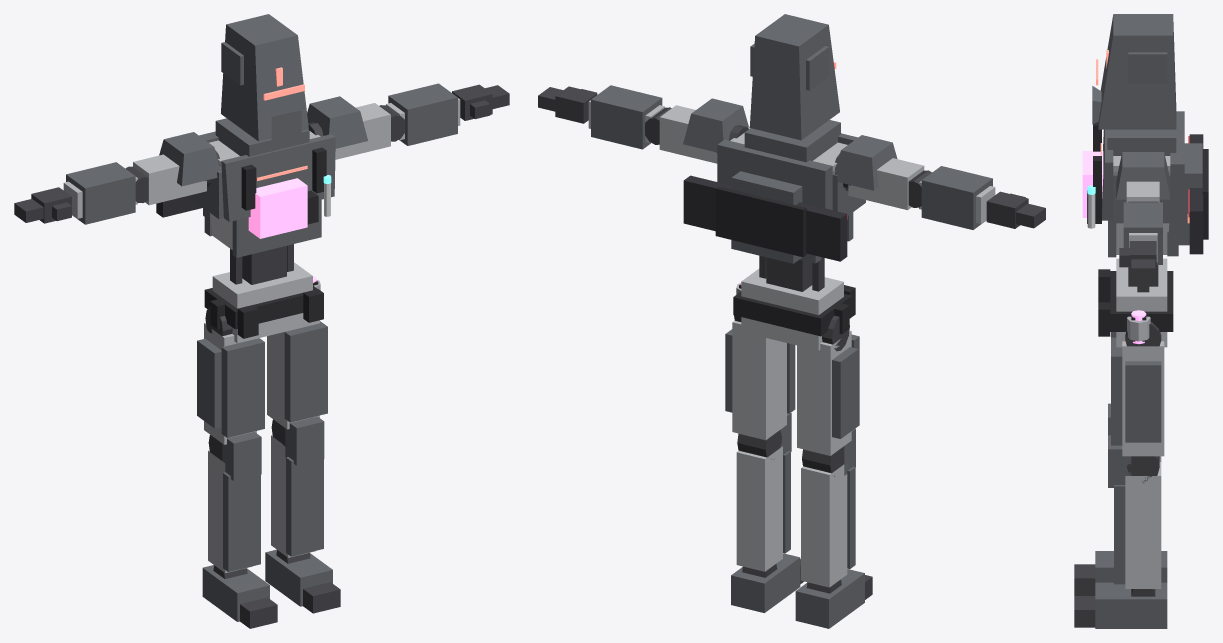
Rendered from char_F2_breacher.glb.
3 views of the same model, side by side, from view 1: azimuth 30°, elevation 25°; view 2: azimuth 150°, elevation 25°; view 3: azimuth 270°, elevation 25° (orthographic). The views are drawn at different scales.
Parts seen in each view (by area): view 1: Head_mesh, UpperChest_mesh, LeftLowerLeg_mesh, RightLowerLeg_mesh, RightUpperLeg_mesh, Hips_mesh, LeftUpperLeg_mesh, RightUpperArm_mesh, RightLowerArm_mesh, LeftLowerArm_mesh, LeftUpperArm_mesh, Chest_mesh (+10 smaller); view 2: UpperChest_mesh, Head_mesh, LeftLowerLeg_mesh, RightLowerLeg_mesh, RightUpperLeg_mesh, LeftUpperLeg_mesh, Hips_mesh, RightUpperArm_mesh, RightLowerArm_mesh, LeftUpperArm_mesh, LeftLowerArm_mesh, RightFoot_mesh (+6 smaller); view 3: Head_mesh, UpperChest_mesh, LeftLowerLeg_mesh, LeftUpperLeg_mesh, Hips_mesh, LeftFoot_mesh, LeftUpperArm_mesh, LeftLowerArm_mesh, LeftHand_mesh, Chest_mesh, Slot_ChargeSlot_1, RightFoot_mesh (+6 smaller).
Boxes of the visible parts, left/top/right/bottom form: Head_mesh: left=221, top=14, right=308, bottom=141; UpperChest_mesh: left=191, top=118, right=335, bottom=224; LeftLowerLeg_mesh: left=271, top=416, right=324, bottom=557; RightLowerLeg_mesh: left=208, top=432, right=261, bottom=573; RightUpperLeg_mesh: left=197, top=306, right=264, bottom=444; Hips_mesh: left=204, top=262, right=323, bottom=343; LeftUpperLeg_mesh: left=267, top=320, right=327, bottom=429; RightUpperArm_mesh: left=133, top=132, right=220, bottom=205; RightLowerArm_mesh: left=63, top=162, right=148, bottom=224; LeftLowerArm_mesh: left=379, top=83, right=460, bottom=145; LeftUpperArm_mesh: left=307, top=96, right=390, bottom=159; Chest_mesh: left=204, top=199, right=321, bottom=257; UpperChest_mesh: left=715, top=120, right=865, bottom=263; Head_mesh: left=749, top=14, right=839, bottom=140; LeftLowerLeg_mesh: left=736, top=413, right=791, bottom=571; RightLowerLeg_mesh: left=801, top=428, right=855, bottom=587; RightUpperLeg_mesh: left=797, top=315, right=859, bottom=455; LeftUpperLeg_mesh: left=725, top=315, right=795, bottom=439; Hips_mesh: left=733, top=268, right=855, bottom=350; RightUpperArm_mesh: left=834, top=135, right=924, bottom=210; RightLowerArm_mesh: left=908, top=166, right=995, bottom=229; LeftUpperArm_mesh: left=659, top=98, right=748, bottom=163; LeftLowerArm_mesh: left=588, top=85, right=671, bottom=149; RightFoot_mesh: left=795, top=569, right=864, bottom=628; Head_mesh: left=1092, top=14, right=1176, bottom=129; UpperChest_mesh: left=1087, top=111, right=1208, bottom=245; LeftLowerLeg_mesh: left=1108, top=435, right=1161, bottom=588; LeftUpperLeg_mesh: left=1111, top=322, right=1164, bottom=456; Hips_mesh: left=1098, top=258, right=1173, bottom=347; LeftFoot_mesh: left=1095, top=582, right=1167, bottom=628; LeftUpperArm_mesh: left=1116, top=152, right=1170, bottom=202; LeftLowerArm_mesh: left=1123, top=201, right=1162, bottom=264; LeftHand_mesh: left=1119, top=241, right=1156, bottom=279; Chest_mesh: left=1108, top=220, right=1178, bottom=257; Slot_ChargeSlot_1: left=1187, top=188, right=1203, bottom=254; RightFoot_mesh: left=1095, top=551, right=1167, bottom=582.
Size of the model in its own units: 1.69 by 1.88 by 0.3942.
